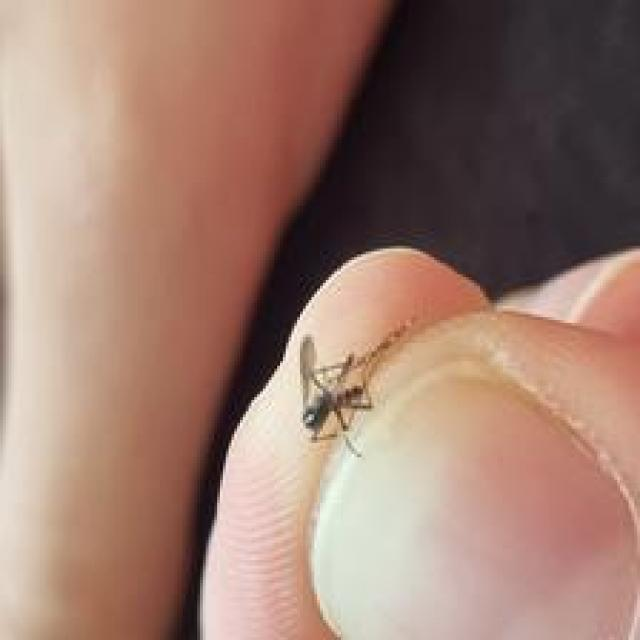Aedes albopictus: (296, 316, 413, 458)
